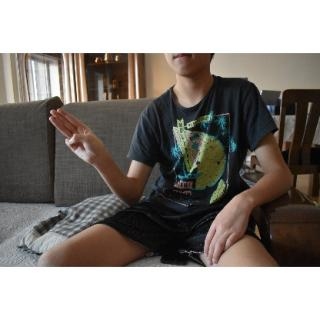THA: (45, 106, 114, 173)
